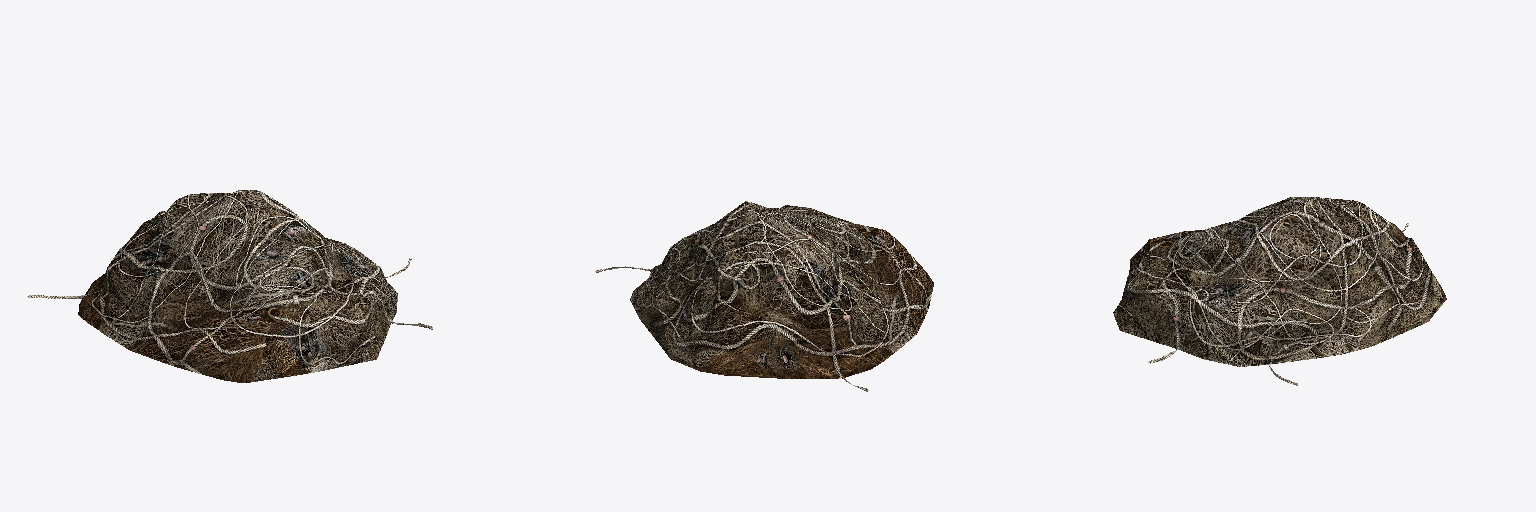
3 renders of one model, left to right at view 1: azimuth 30°, elevation 25°; view 2: azimuth 150°, elevation 25°; view 3: azimuth 270°, elevation 25°, orthographic.
Visible parts, largest first — view 1: big_messy_pile; view 2: big_messy_pile; view 3: big_messy_pile.
Boxes of the visible parts, x1=… form: big_messy_pile: x1=27, y1=190, x2=432, y2=382; big_messy_pile: x1=595, y1=201, x2=933, y2=391; big_messy_pile: x1=1113, y1=197, x2=1446, y2=385.
Bounding box in the file's own units: 129 × 41.35 × 114.
Materials: 1 (1 with a texture image).